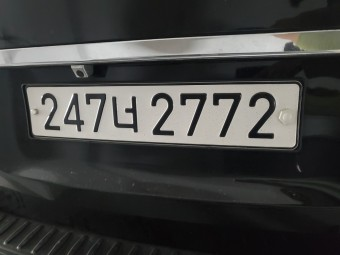car: (22, 83, 301, 149)
